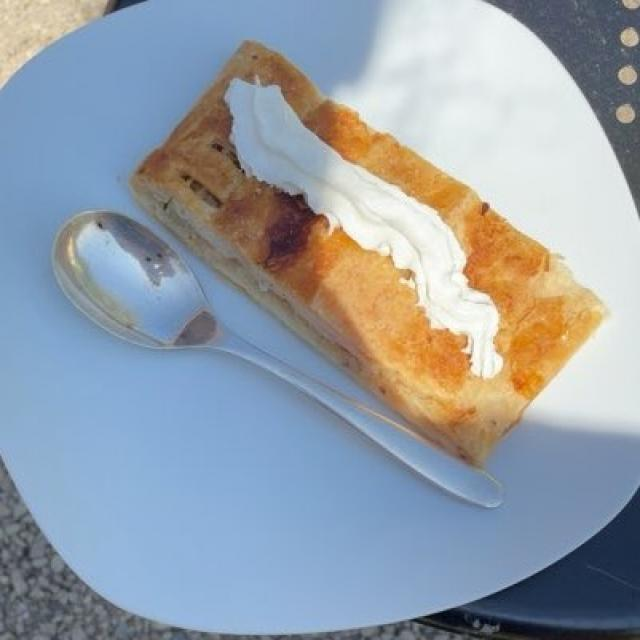cream: (213, 86, 501, 412)
